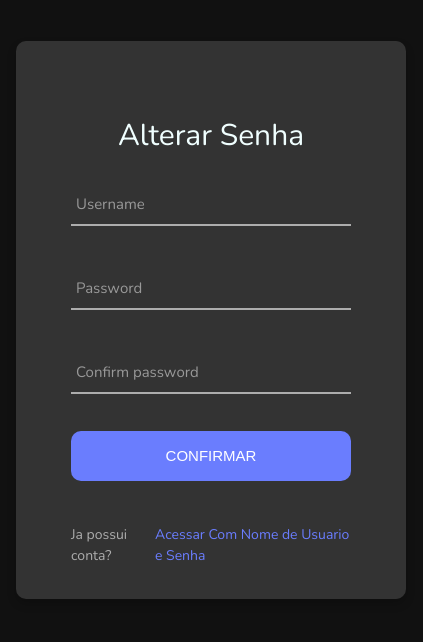
Test: Componente Alterar › Operações com backend não funcional › Alerta de senhas não baterem
This screenshot has width=423, height=642.
In the field with test id "usernameInput": (211, 202) [71,179,351,224], type "Victor"
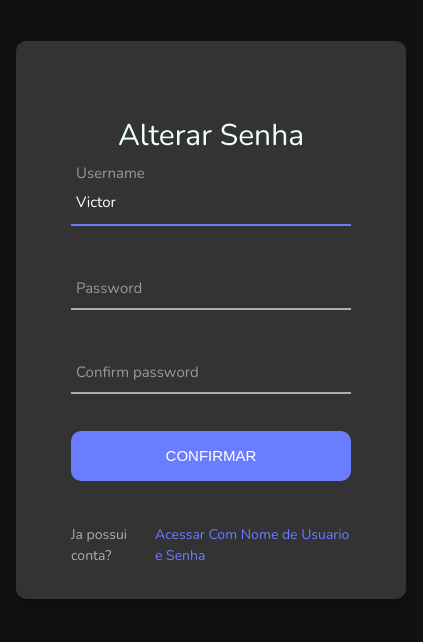
In the password field with test id "passwordInput": (211, 286) [71,263,351,308], type "1234"
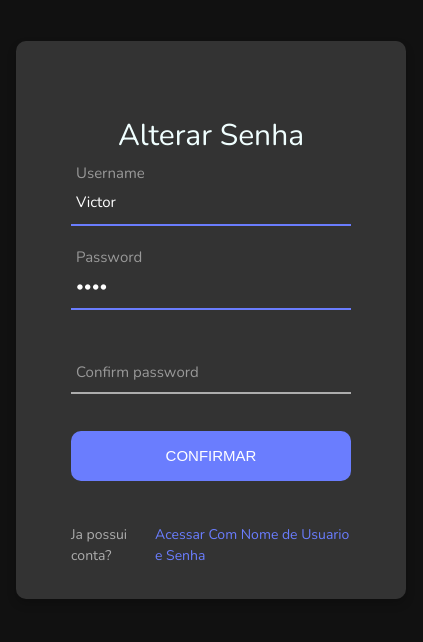
In the password field with test id "confirmpasswordInput": (211, 370) [71,347,351,392], type "1243"
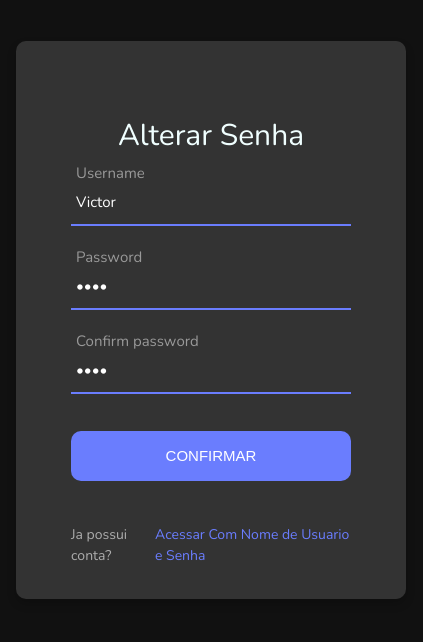
Click the button: (211, 456) [71,431,351,481]
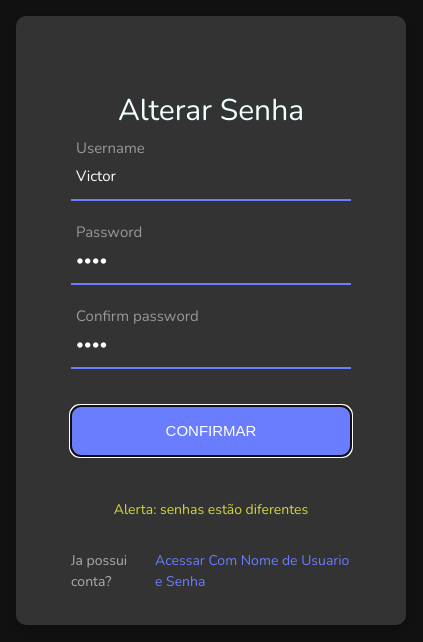
Expected: the text "senhas estão diferentes" is shown, [160,500,308,518]
